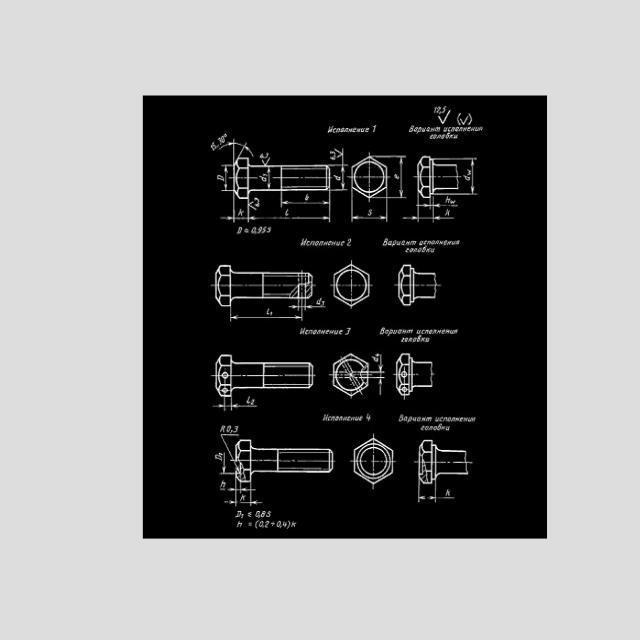marking_line: (220, 199, 331, 222), (403, 199, 454, 224), (230, 307, 303, 323), (225, 483, 264, 508), (351, 198, 389, 222), (388, 155, 407, 200), (280, 192, 331, 208), (416, 484, 455, 503), (460, 158, 478, 197), (369, 354, 386, 395), (219, 139, 255, 158), (213, 397, 258, 411), (416, 198, 459, 210), (331, 164, 349, 192), (221, 432, 235, 461), (289, 300, 327, 310), (220, 164, 233, 192), (221, 453, 235, 476), (228, 483, 256, 494), (267, 167, 271, 189)
numeric: (214, 454, 223, 462), (371, 355, 379, 363), (259, 176, 267, 183), (345, 327, 351, 336), (463, 175, 470, 182), (218, 175, 225, 182), (238, 208, 244, 216), (237, 226, 243, 234), (257, 226, 263, 234), (441, 106, 447, 114), (219, 425, 225, 433), (240, 494, 246, 502), (255, 198, 260, 207), (217, 137, 222, 146), (317, 296, 322, 305), (394, 173, 400, 180), (333, 175, 340, 181), (236, 510, 242, 517), (236, 521, 243, 527), (446, 489, 452, 496), (445, 208, 450, 216), (226, 424, 231, 432), (255, 510, 260, 518), (220, 480, 225, 488), (366, 413, 371, 421), (251, 227, 257, 233), (212, 142, 218, 148), (445, 196, 450, 203), (267, 226, 272, 233), (233, 426, 238, 433), (266, 510, 271, 517), (276, 521, 281, 528), (247, 396, 251, 404), (368, 208, 372, 216), (373, 125, 377, 133), (347, 239, 351, 247), (261, 510, 265, 518), (259, 520, 263, 528), (265, 521, 269, 529), (450, 199, 456, 204), (330, 149, 336, 154), (221, 136, 225, 143), (305, 194, 309, 201), (263, 226, 267, 233), (266, 308, 270, 315), (467, 169, 471, 175), (330, 156, 336, 160), (437, 106, 440, 114), (283, 521, 287, 527), (251, 398, 254, 405), (266, 152, 269, 159), (211, 145, 214, 151), (241, 513, 244, 519), (260, 153, 263, 158), (263, 174, 267, 177)
special_symbol: (438, 111, 451, 124), (249, 200, 257, 211), (335, 149, 343, 159), (262, 158, 271, 166), (468, 113, 473, 126), (460, 116, 468, 124), (457, 112, 461, 126), (286, 520, 291, 529), (243, 227, 250, 233), (291, 521, 297, 528), (255, 520, 259, 529), (247, 511, 252, 517), (321, 301, 326, 306), (248, 521, 253, 526), (270, 521, 274, 526), (270, 311, 273, 317), (223, 133, 227, 137)
